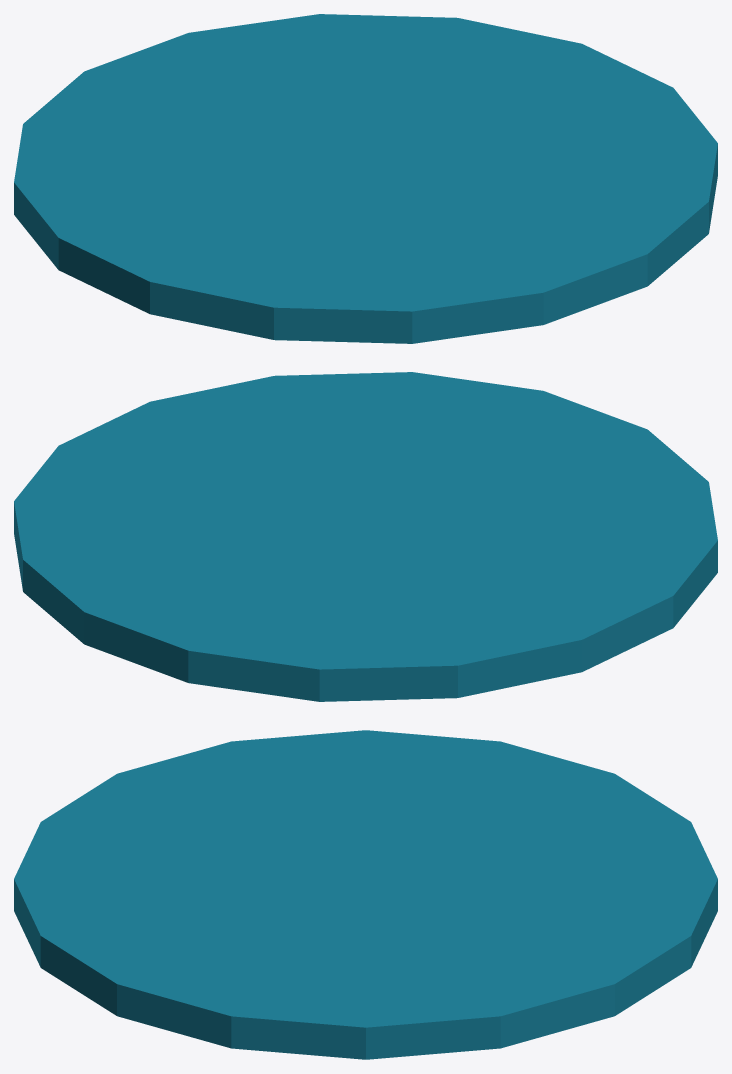
File: Table4.fbx
3 views of the same model, one above another, from view 1: azimuth 30°, elevation 25°; view 2: azimuth 150°, elevation 25°; view 3: azimuth 270°, elevation 25° (orthographic).
Parts seen in each view (by area): view 1: Table4; view 2: Table4; view 3: Table4.
Boxes of the visible parts, x1=… form: Table4: x1=14, y1=14, x2=717, y2=343; Table4: x1=14, y1=372, x2=717, y2=701; Table4: x1=14, y1=730, x2=717, y2=1059.
Size of the model in its own units: 2 by 0.1007 by 2.
